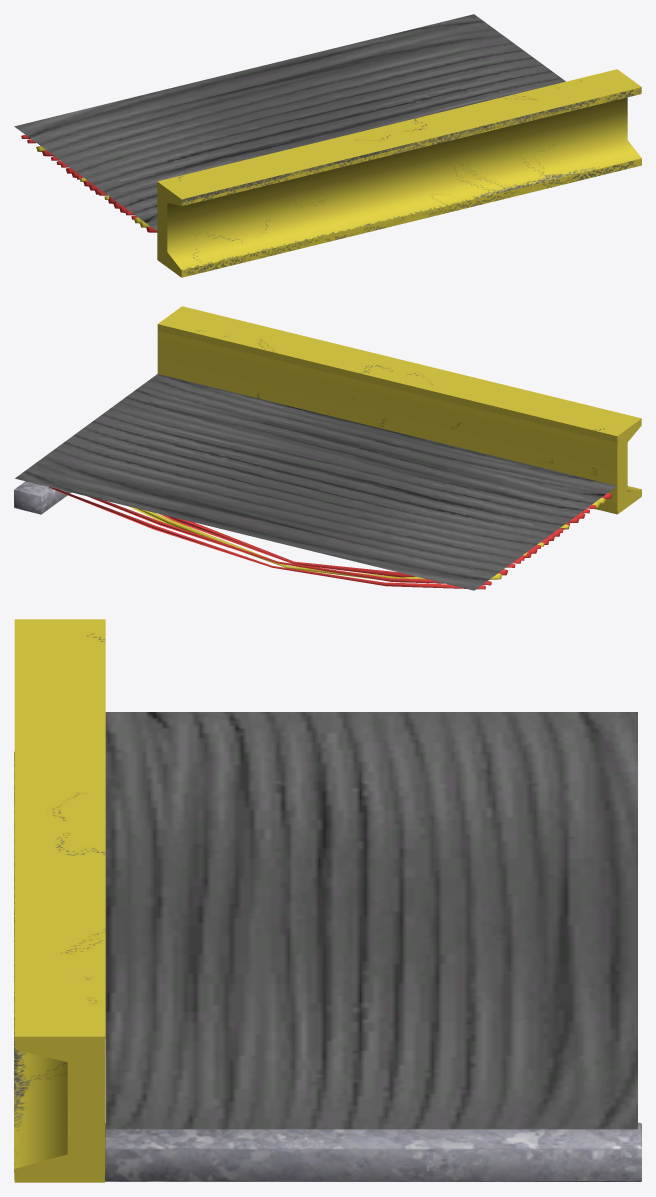
Rendered from mountedCables_straightPiece.dae.
3 renders of one model, top to bottom at view 1: azimuth 30°, elevation 25°; view 2: azimuth 150°, elevation 25°; view 3: azimuth 270°, elevation 25°, orthographic. The views are drawn at different scales.
Parts seen in each view (by area): view 1: polySurface33; view 2: polySurface33; view 3: polySurface33.
Part boxes in pixels (x1,y1,x2,y2): polySurface33: [14, 14, 641, 277]; polySurface33: [14, 306, 641, 590]; polySurface33: [14, 619, 641, 1182].
Bounding box in the file's own units: 3.45 × 0.7838 × 2.19.
Materials: 1 (1 with a texture image).
